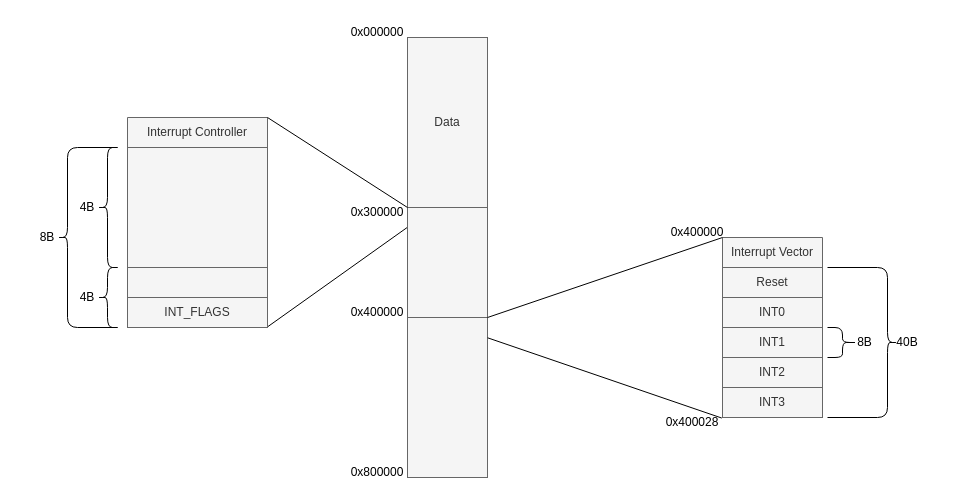
Some shapes in this 954 by 504 pixel diagram are drawn without their labels. The shapes that lost their labels are listed below. From the top down, each one's centre as x and y in pixels, then its label:
point (197, 207): RET
point (197, 282): INT_CONFIG
point (447, 262): Peripherals
point (447, 397): Code
